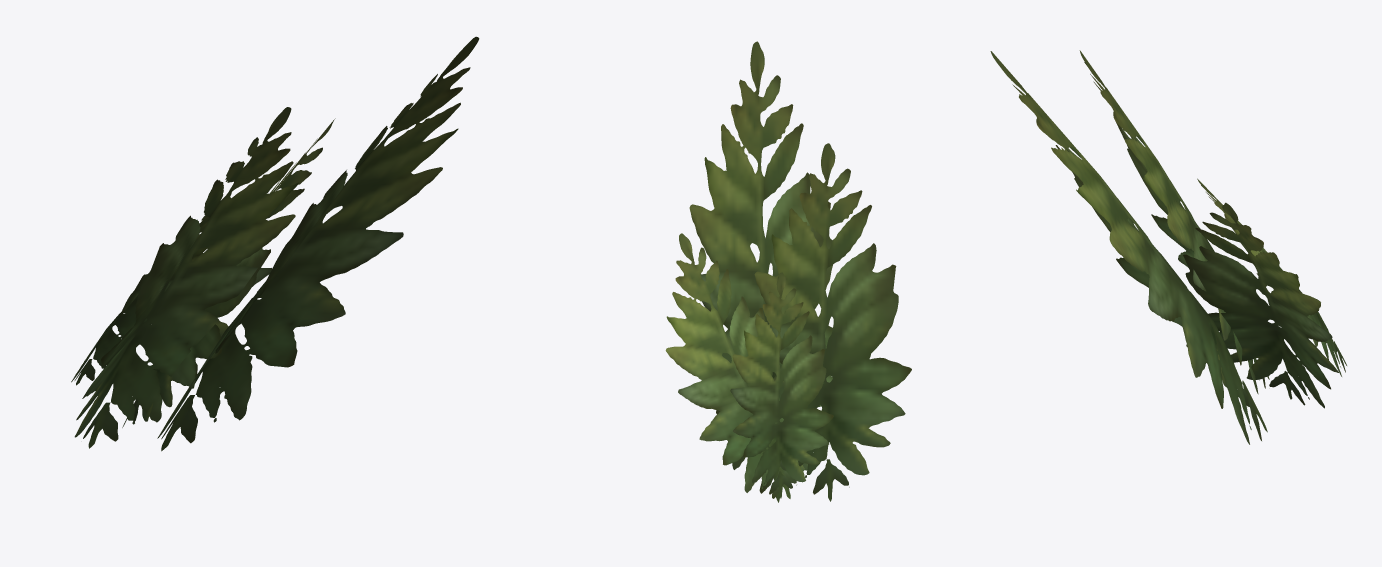
The model's file is Grass_C_2.fbx.
3 renders of one model, left to right at view 1: azimuth 30°, elevation 25°; view 2: azimuth 150°, elevation 25°; view 3: azimuth 270°, elevation 25°, orthographic. The views are drawn at different scales.
Visible parts, largest first — view 1: Grass_C_2__14_; view 2: Grass_C_2__14_; view 3: Grass_C_2__14_.
Part boxes in pixels (<box>): Grass_C_2__14_: <box>71,36,479,451</box>; Grass_C_2__14_: <box>665,41,911,502</box>; Grass_C_2__14_: <box>990,50,1346,444</box>.
Bounding box in the file's own units: 0.2952 × 0.3609 × 0.2402.
